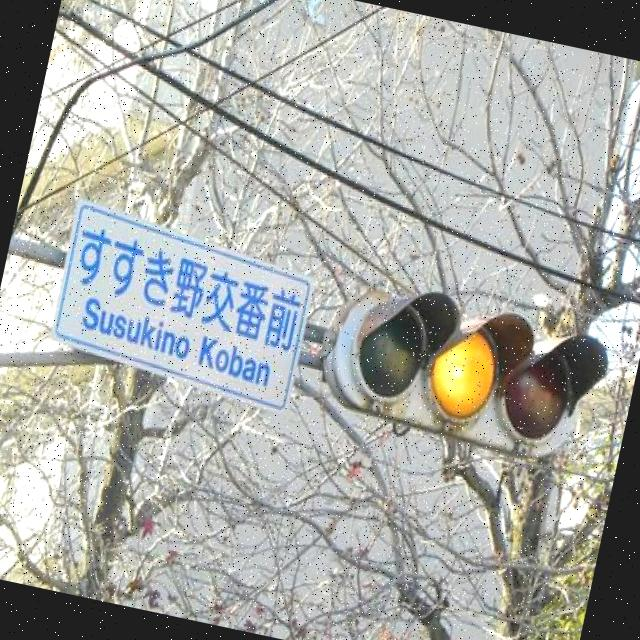yellow_light: (428, 287, 526, 445)
